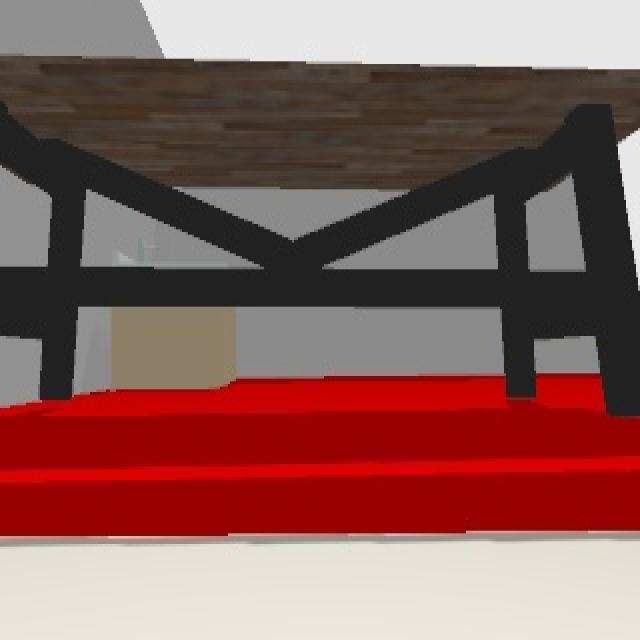dining: (2, 53, 640, 411)
